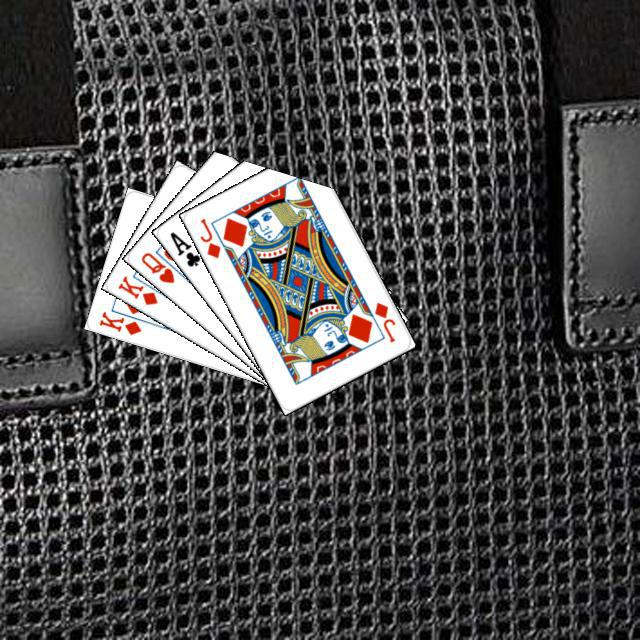Ac: (165, 227, 202, 269)
Jd: (195, 213, 222, 260), (370, 297, 397, 344)
Kd: (113, 271, 159, 307), (94, 306, 143, 337)
Qh: (136, 247, 176, 285)
